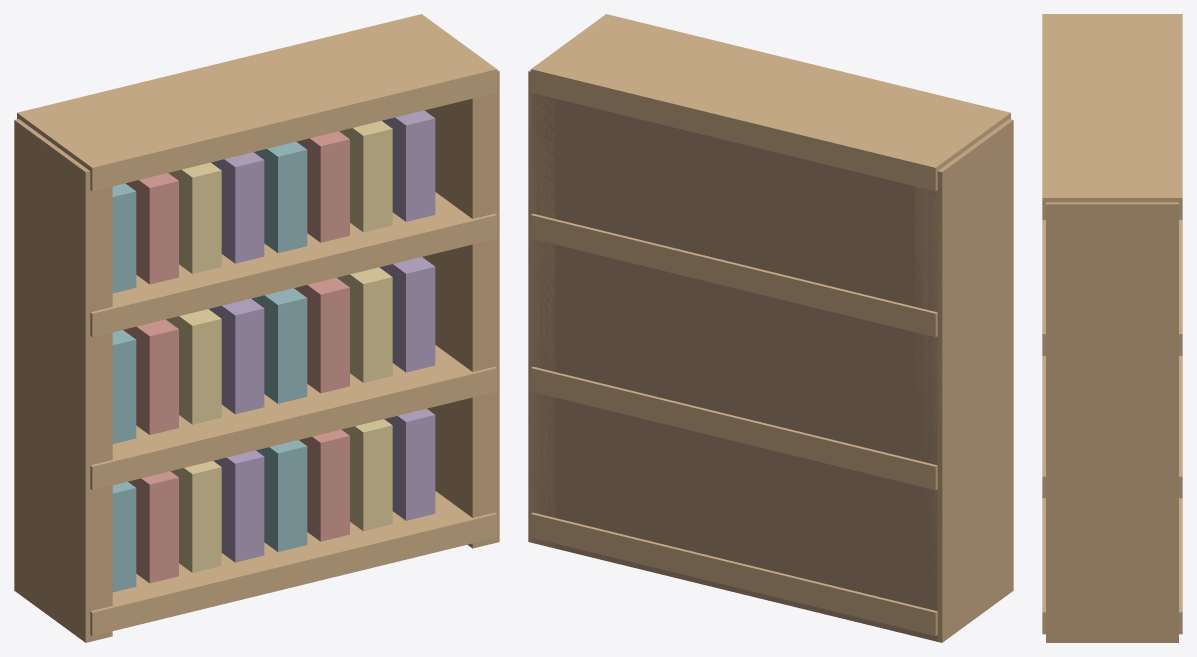
File: bookshelf.glb
3 views of the same model, side by side, from view 1: azimuth 30°, elevation 25°; view 2: azimuth 150°, elevation 25°; view 3: azimuth 270°, elevation 25° (orthographic). The views are drawn at different scales.
Parts seen in each view (by area): view 1: book (×24), shelf (×4), side (×2); view 2: back, shelf (×4), side (×2); view 3: side, shelf (×4).
Part boxes in pixels (x1,y1,x2,y2): book (×24): [112, 110, 435, 592]; shelf (×4): [17, 14, 496, 636]; side (×2): [14, 69, 499, 642]; back: [533, 93, 937, 641]; shelf (×4): [531, 14, 1010, 636]; side (×2): [528, 69, 1013, 642]; side: [1046, 202, 1178, 642]; shelf (×4): [1042, 14, 1182, 634].
Bounding box in the file's own units: 1.84 × 2.02 × 0.58.
